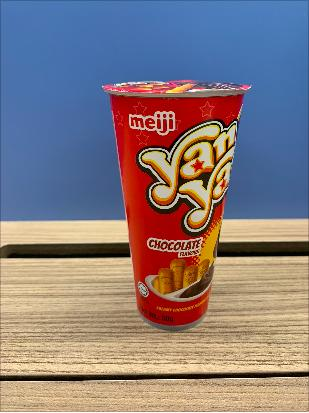object_name: (120, 91, 220, 328)
